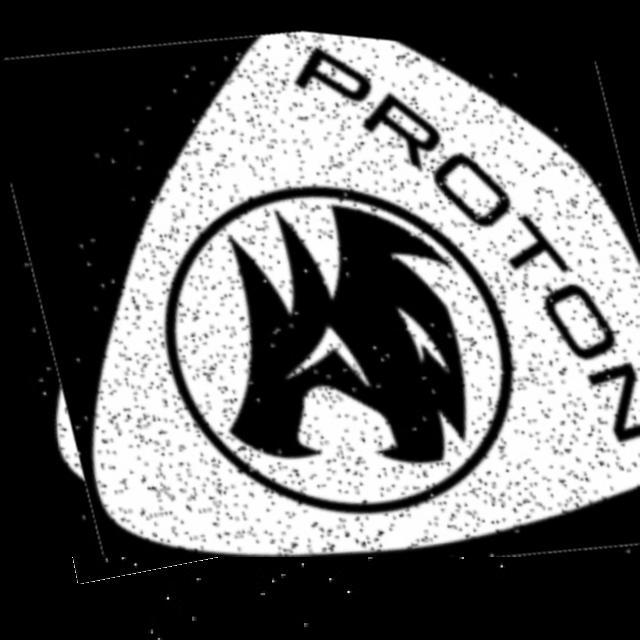Proton: (0, 0, 640, 557)
